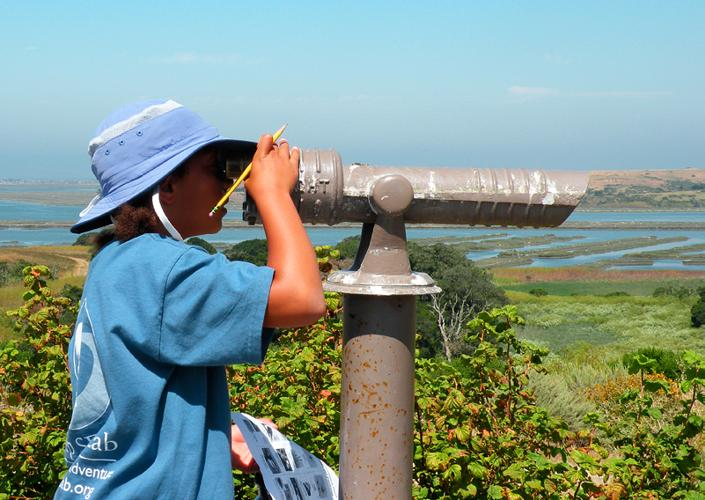person: (53, 98, 331, 498)
